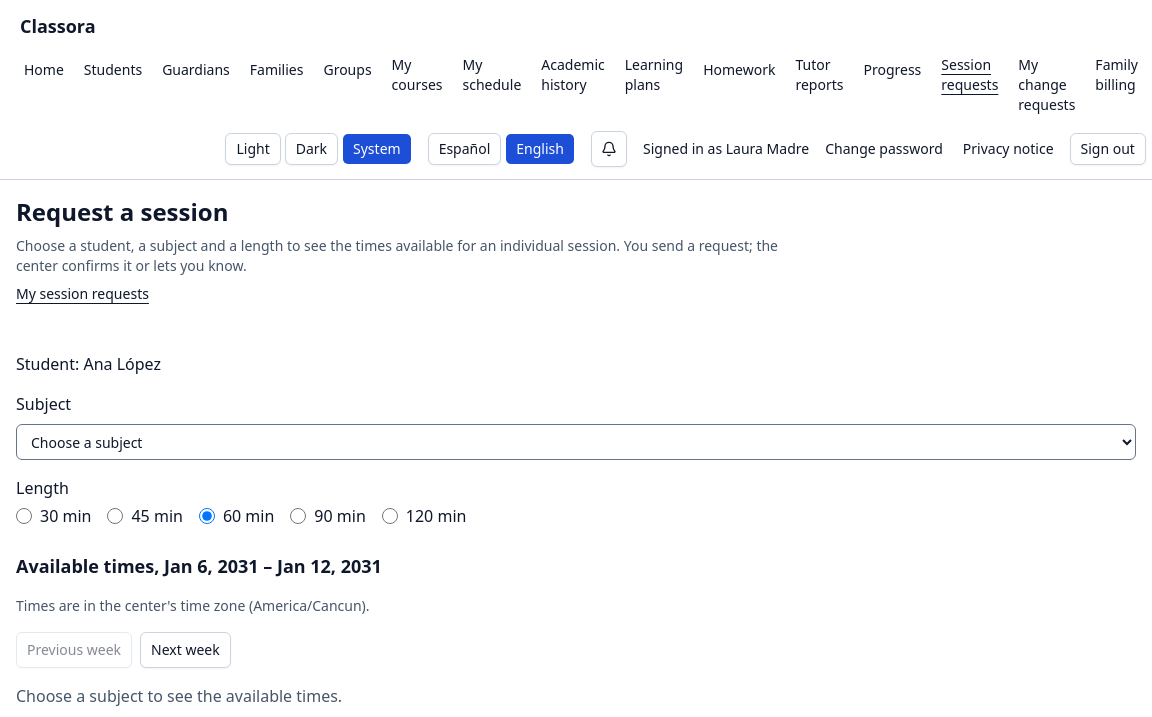
Test: /requests/new › lists the week in the center zone, one heading per day
Expected: the element that starts with "Request a session" shows "Choose a subject to see the available times.", [16, 685, 342, 707]
Step 1. Select "Física" in the dropdown labelled "Subject" → (576, 442), box [16, 424, 1136, 460]
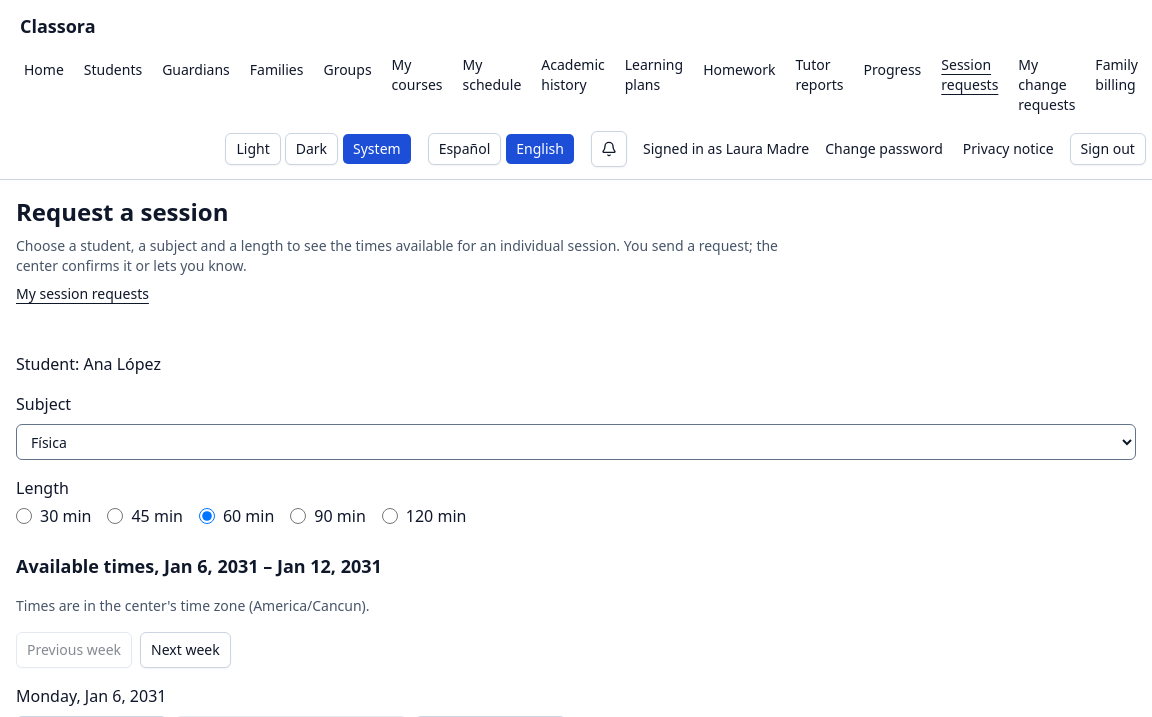
Expected: the element that starts with "Request a session" shows "Times are in the center's time zone (America/Cancun).", [16, 596, 370, 615]
Now the heading "Monday, Jan 6, 2031" is shown, box [16, 685, 166, 707]
